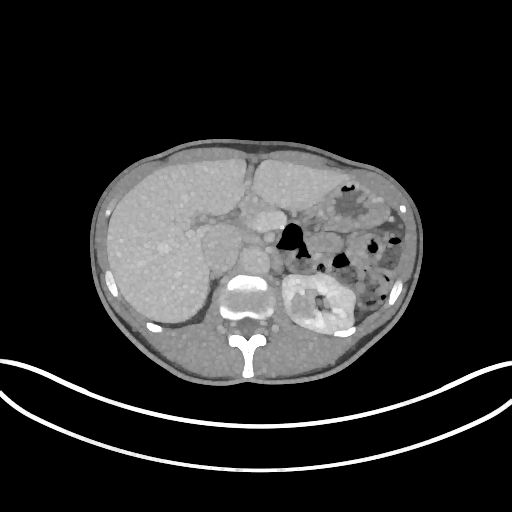Lesion: (284, 292, 317, 323)
